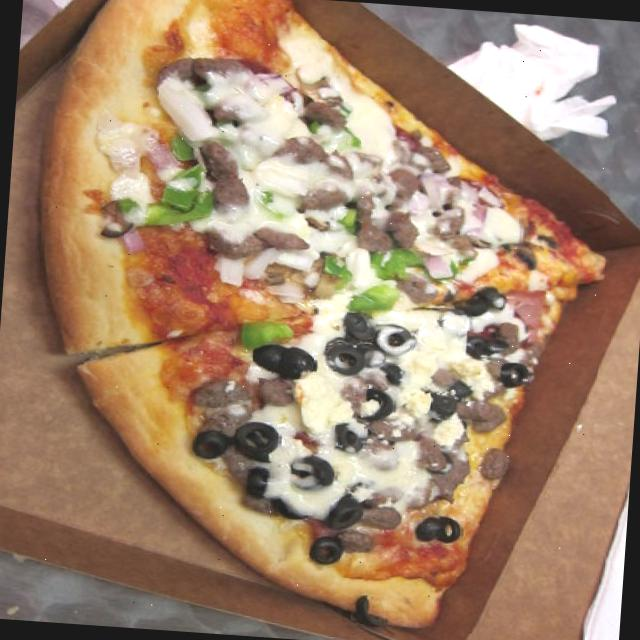Bell Pepper: (143, 168, 221, 232), (234, 316, 295, 351), (342, 280, 400, 316), (368, 246, 420, 281), (319, 256, 349, 294), (163, 128, 196, 162), (427, 252, 460, 282), (256, 190, 285, 222), (334, 207, 364, 236), (113, 196, 133, 213)
Olive: (322, 310, 378, 374), (250, 342, 314, 382), (452, 283, 510, 320), (232, 418, 279, 462), (289, 452, 336, 494), (371, 322, 412, 358), (326, 495, 366, 531), (307, 534, 347, 568), (358, 388, 392, 423), (349, 593, 385, 625), (268, 495, 310, 522), (498, 358, 528, 392), (464, 330, 496, 360), (410, 514, 440, 546), (194, 430, 228, 458), (428, 392, 462, 419), (332, 424, 364, 452), (436, 512, 460, 548), (244, 468, 270, 496), (377, 363, 407, 387)
cheese: (341, 454, 422, 492), (342, 100, 394, 156), (414, 318, 457, 381), (478, 205, 522, 250), (298, 379, 334, 428), (254, 160, 310, 189)
pizza: (44, 0, 604, 626)
